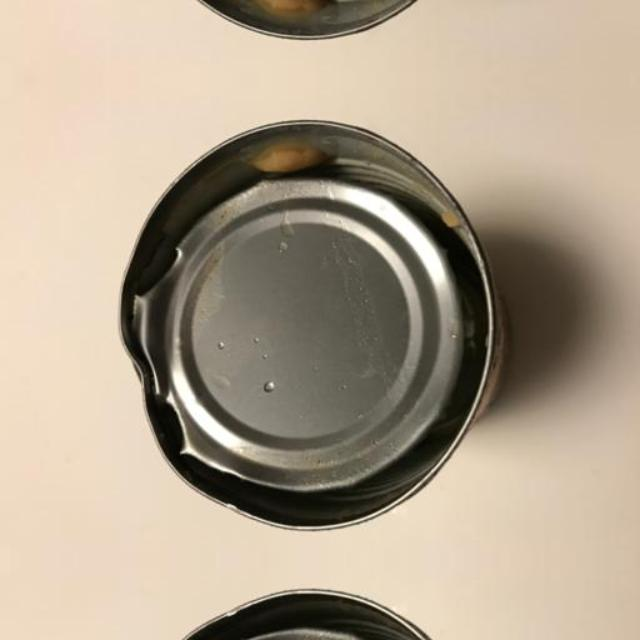Metal: (109, 117, 547, 538), (109, 582, 547, 640), (109, 0, 547, 43)
